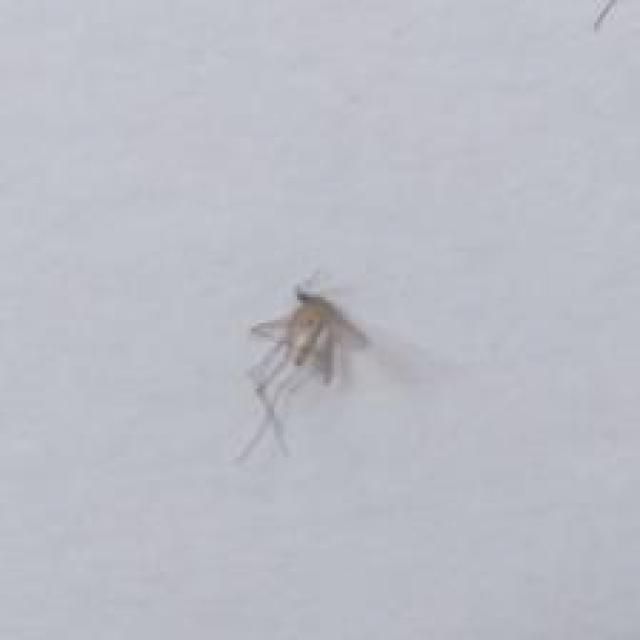Culex: (232, 274, 374, 463)
